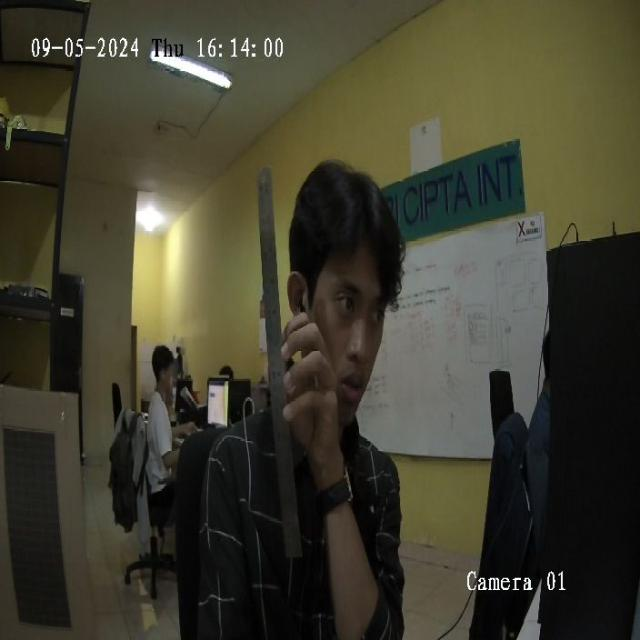Ruler: (258, 168, 300, 559)
